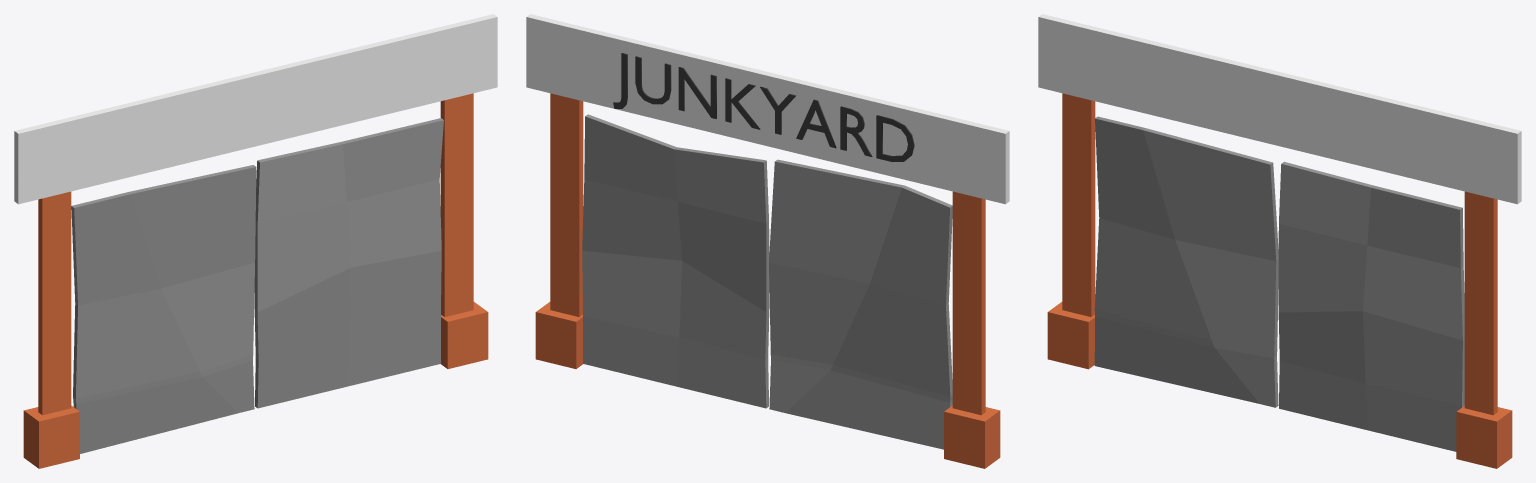
Rendered from Gates.fbx.
The picture shows the model from 3 angles, left to right: view 1: azimuth 30°, elevation 25°; view 2: azimuth 150°, elevation 25°; view 3: azimuth 330°, elevation 25°; orthographic projection.
Visible parts, largest first — view 1: Gates closed, Gates door2, Gates door1; view 2: Gates closed, Gates door2, Gates door1, Text Junkyard; view 3: Gates closed, Gates door2, Gates door1.
Part boxes in pixels (<box>): Gates closed: <box>14,14,497,468</box>; Gates door2: <box>254,118,443,408</box>; Gates door1: <box>71,165,256,453</box>; Gates closed: <box>526,14,1009,468</box>; Gates door2: <box>582,114,769,408</box>; Gates door1: <box>769,159,952,449</box>; Text Junkyard: <box>613,53,914,161</box>; Gates closed: <box>1038,14,1521,468</box>; Gates door2: <box>1278,161,1464,451</box>; Gates door1: <box>1094,116,1278,407</box>.
Size of the model in its own units: 3117 by 2080 by 172.
